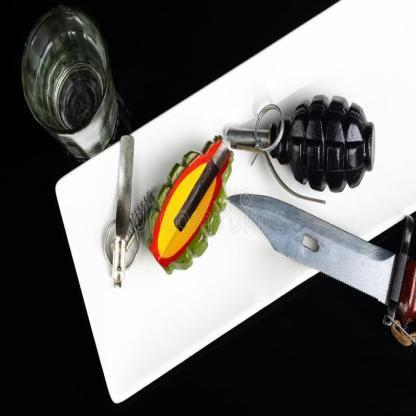Grenade: (227, 91, 377, 206)
Knife: (226, 191, 416, 349)
